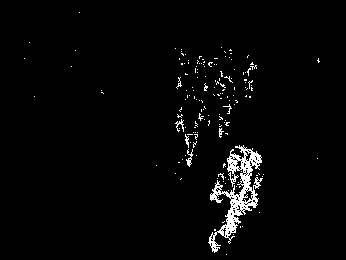person: (208, 142, 262, 253), (173, 86, 207, 170)
